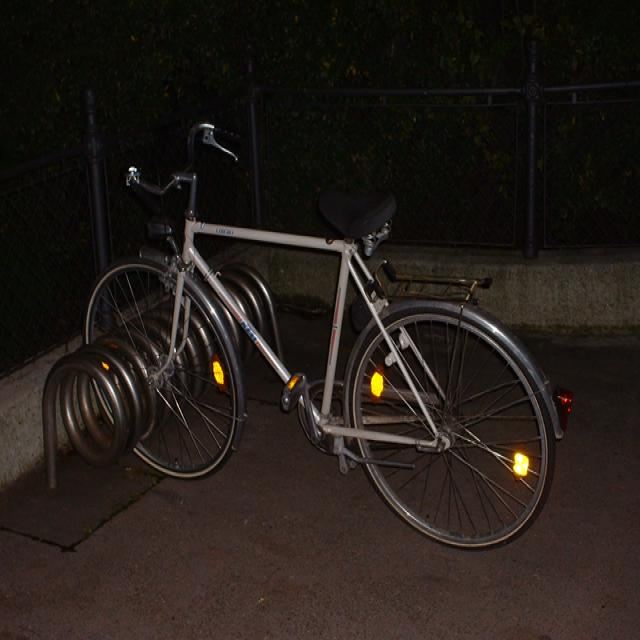bicycle: (82, 120, 571, 549)
